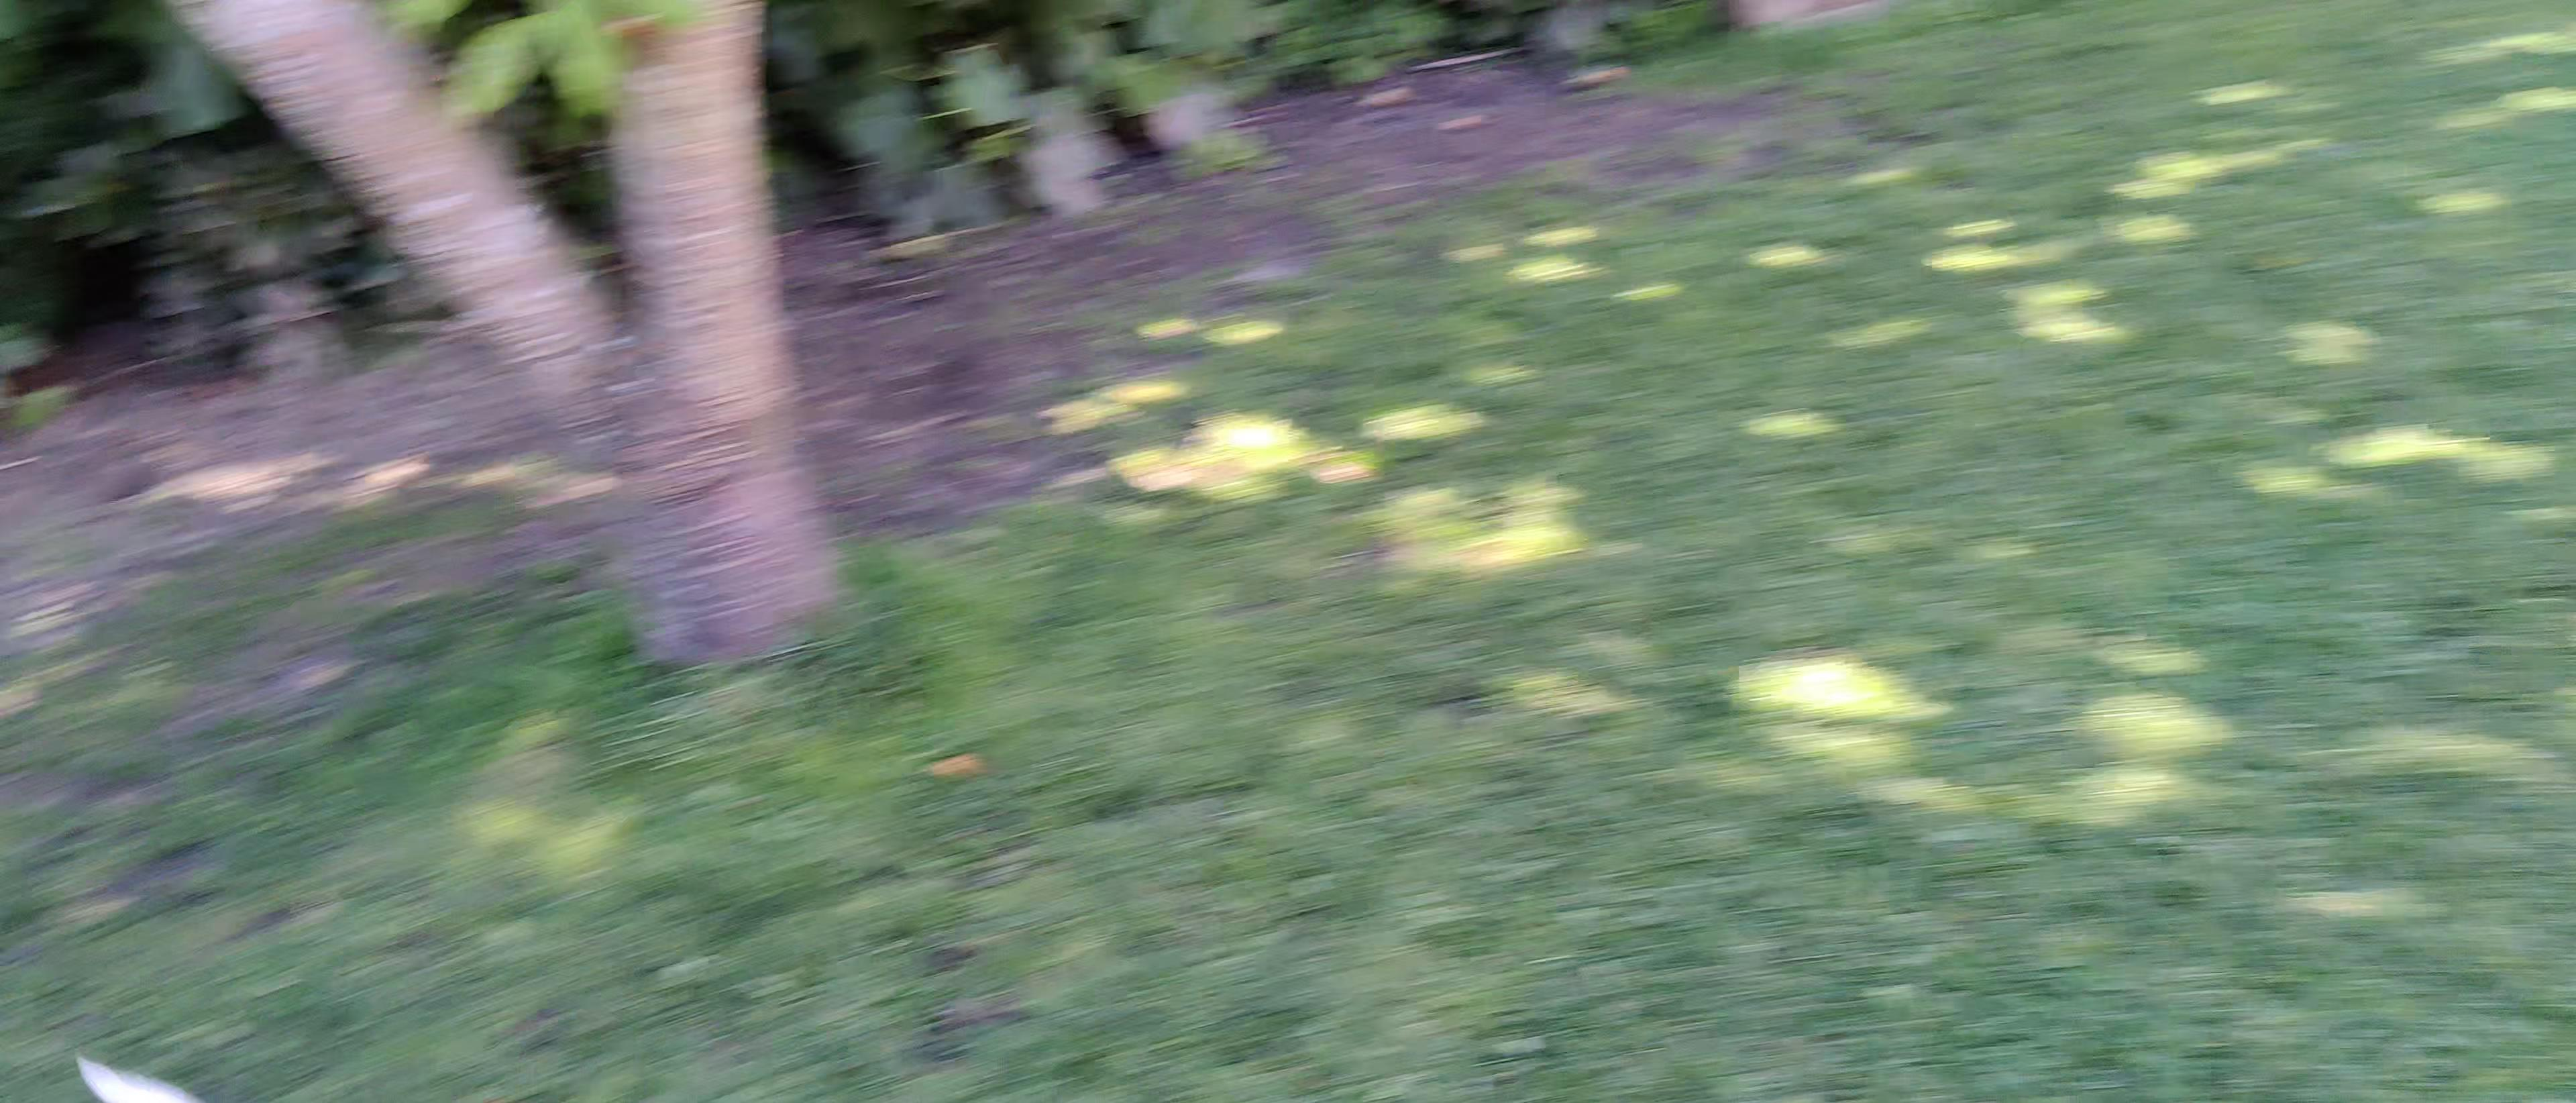Dog: (62, 1034, 235, 1103)
